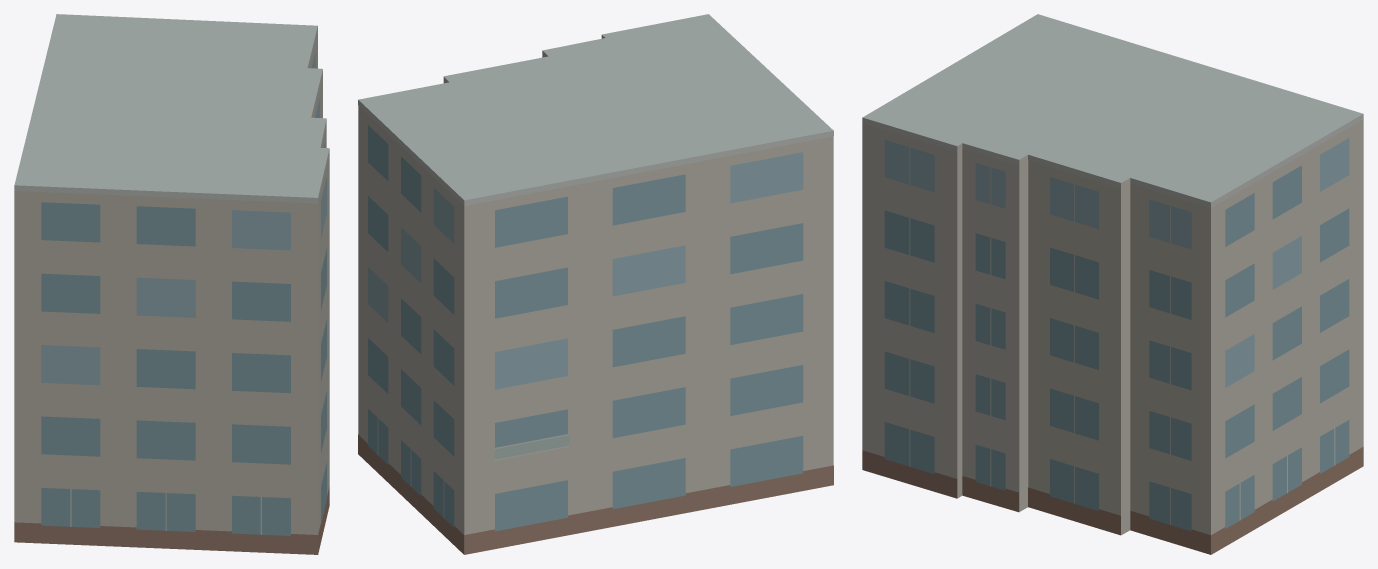
Rendered from survey-upis-32993046.glb.
The picture shows the model from 3 angles, left to right: view 1: azimuth 30°, elevation 25°; view 2: azimuth 150°, elevation 25°; view 3: azimuth 270°, elevation 25°; orthographic projection.
Parts seen in each view (by area): view 1: survey-upis-32993046.tmp; view 2: survey-upis-32993046.tmp; view 3: survey-upis-32993046.tmp.
Boxes of the visible parts, <box> form: survey-upis-32993046.tmp: <box>14,14,329,554</box>; survey-upis-32993046.tmp: <box>358,14,833,554</box>; survey-upis-32993046.tmp: <box>862,14,1363,554</box>.
Bounding box in the file's own units: 17.5 × 15.25 × 19.66.
